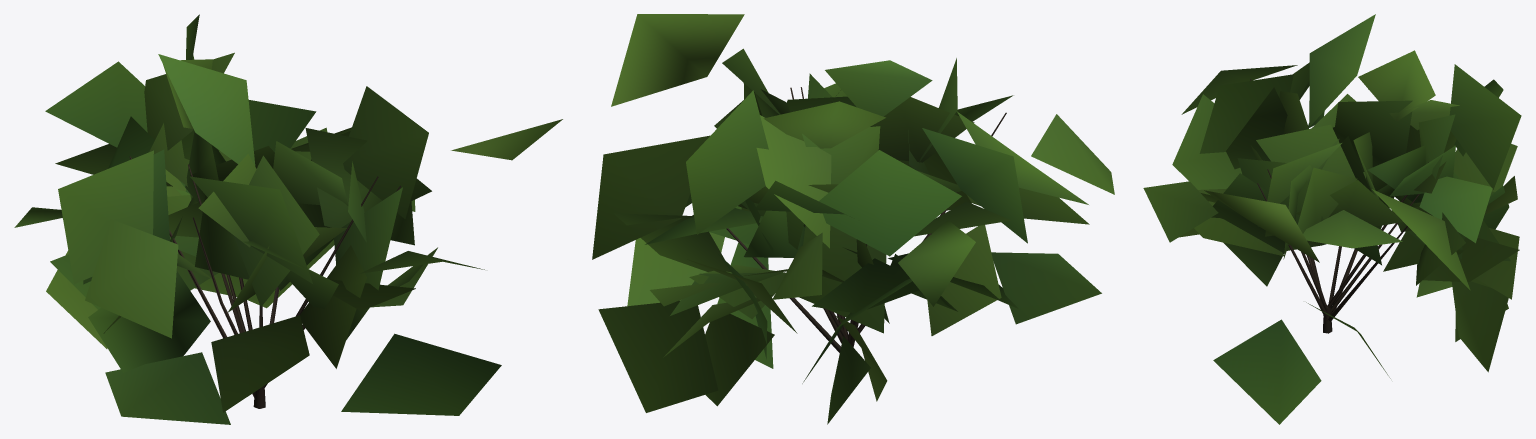
File: bush-hazel-a.lod2.glb
3 views of the same model, side by side, from view 1: azimuth 30°, elevation 25°; view 2: azimuth 150°, elevation 25°; view 3: azimuth 270°, elevation 25° (orthographic). The views are drawn at different scales.
Parts seen in each view (by area): view 1: bush-hazel-a.lod2; view 2: bush-hazel-a.lod2; view 3: bush-hazel-a.lod2.
Part boxes in pixels (x1,y1,x2,y2): bush-hazel-a.lod2: [14, 14, 562, 424]; bush-hazel-a.lod2: [592, 14, 1114, 424]; bush-hazel-a.lod2: [1143, 14, 1521, 424].
Bounding box in the file's own units: 3.11 × 2.35 × 2.57.
